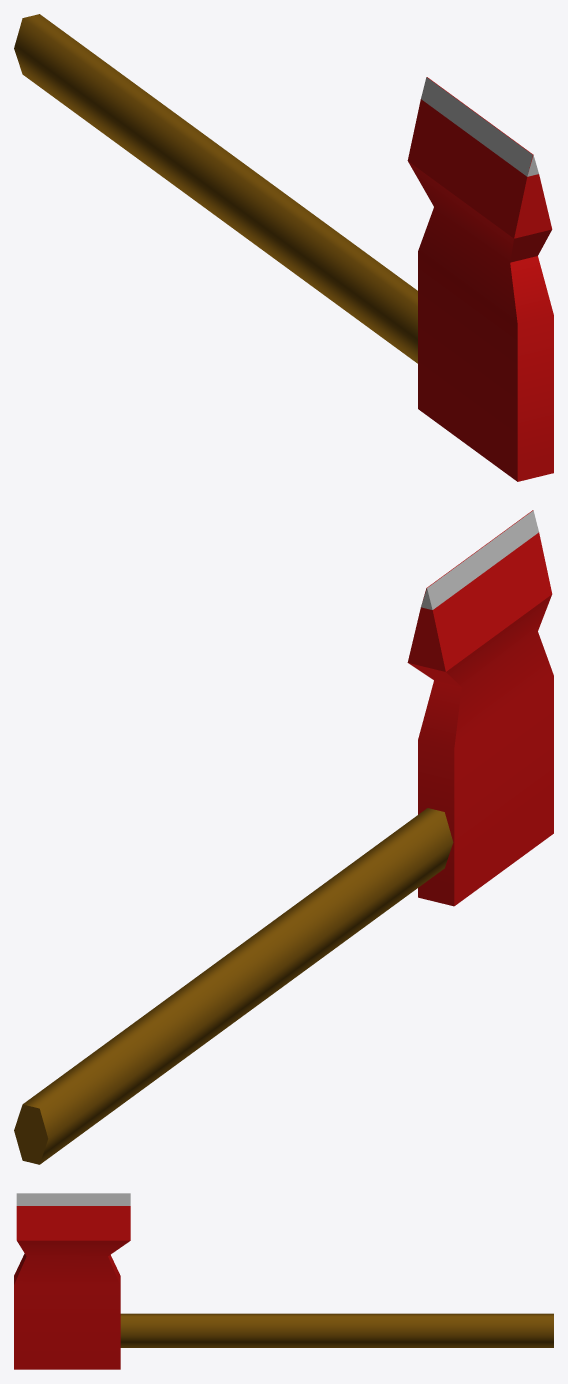
The model's file is Unwrapped_Ax.fbx.
3 renders of one model, top to bottom at view 1: azimuth 30°, elevation 25°; view 2: azimuth 150°, elevation 25°; view 3: azimuth 270°, elevation 25°, orthographic. The views are drawn at different scales.
Visible parts, largest first — view 1: Cylinder022; view 2: Cylinder022; view 3: Cylinder022.
Boxes of the visible parts, x1,y1,x2,y2 form: Cylinder022: [14, 14, 553, 481]; Cylinder022: [14, 510, 553, 1164]; Cylinder022: [14, 1193, 553, 1369].
Bounding box in the file's own units: 6.72 × 53.97 × 154.
